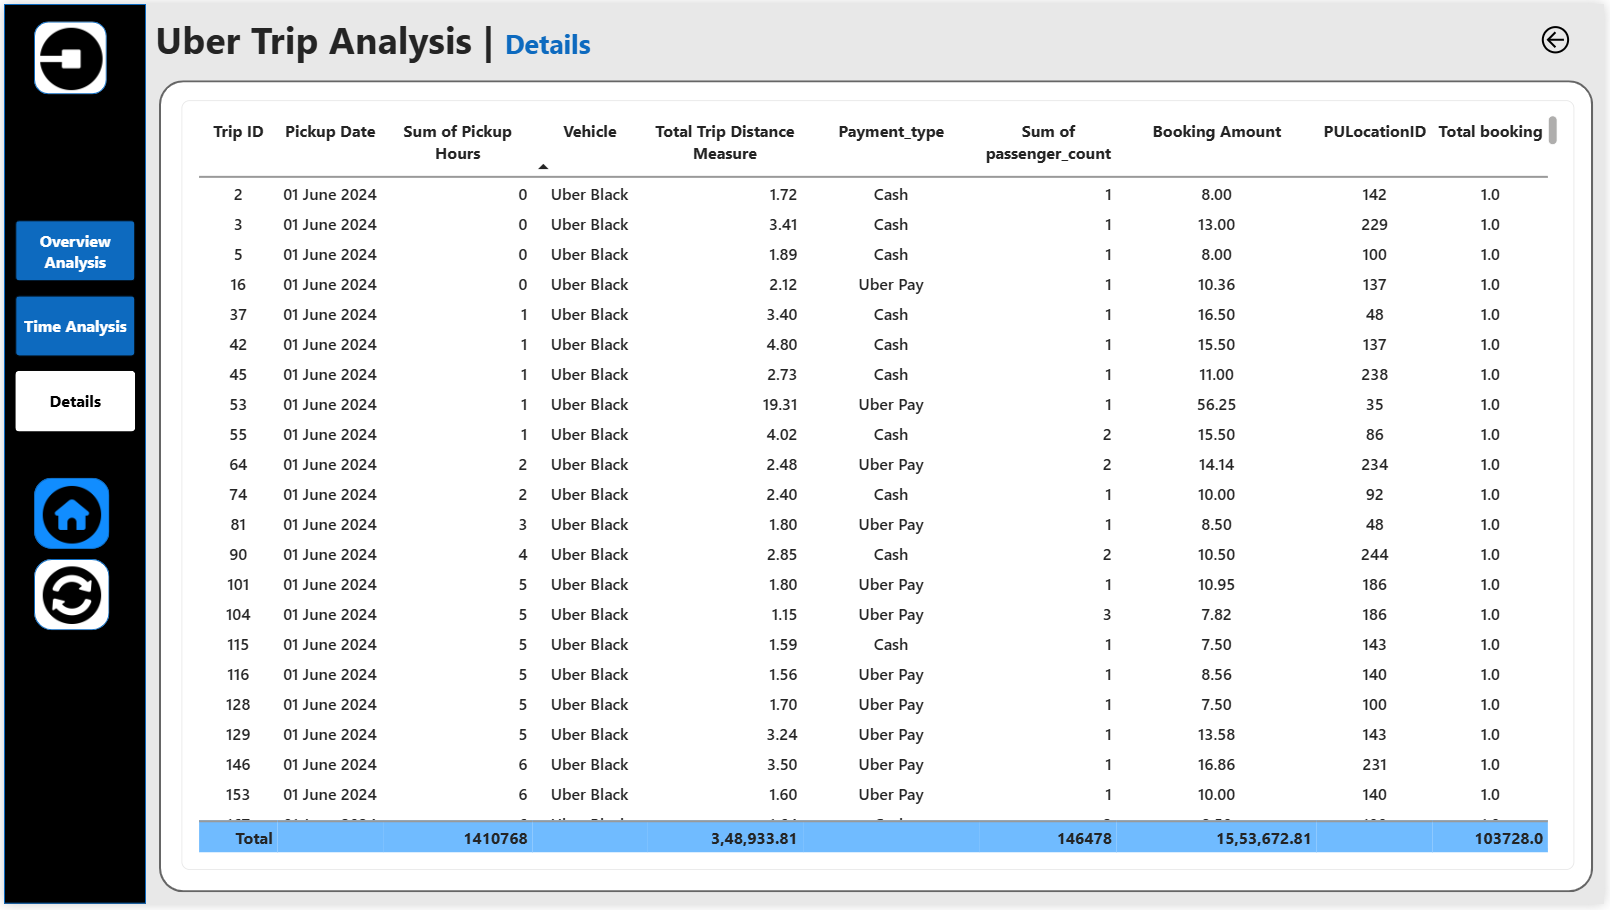

Layout of this report page (visuals, bound fields, positions):
{"tool":"powerbi","page":{"name":"Details","canvas":[1600,900],"ordinal":2},"visuals":[{"type":"shape","box":[0,0,142,899.7],"z":0},{"type":"shape","box":[30.5,17.4,72.7,72.7],"z":0,"group":"g1"},{"type":"textbox","box":[151.4,10,601.4,65.7],"z":1000},{"type":"image","box":[36.3,23.2,62,62.5],"z":1000,"group":"g1"},{"type":"shape","box":[155.1,76,1434.1,812],"z":2000},{"type":"tableEx","fields":{"Values":["Trip details.Trip ID","Trip details.Pickup Date","Sum(Trip details.Pickup Hours)","Trip details.Vehicle","Trip details.Total Trip Distance Measure","Trip details.Payment_type","Sum(Trip details.passenger_count)","Trip details.Total Booking Amount","Trip details.PULocationID","Trip details.Total booking"]},"box":[177.3,96.6,1393,769.3],"z":3000},{"type":"actionButton","box":[1521.5,9.3,60,50],"z":4000},{"type":"pageNavigator","box":[10.8,216.5,120.6,211.8],"z":5000},{"type":"group","id":"g1","title":"Group 1","box":[30.5,17.4,72.7,72.7],"z":6000},{"type":"shape","box":[30.5,473.8,75.6,71.2],"z":6001},{"type":"image","box":[39.2,478.2,58.1,64],"z":6002},{"type":"shape","box":[30.5,555.2,75.6,71.2],"z":6003},{"type":"image","box":[39.2,559.6,58.1,62.5],"z":6004}]}

Visuals, with their boxes on the page's 1600x900 design canvas (x1, y1, x2, y2). These are canvas units, not pixel positions in the 1610x910 screenshot, which may show the page scaled, cropped or inside an application window:
shape: detection(0, 0, 142, 900)
shape: detection(30, 17, 103, 90)
textbox: detection(151, 10, 753, 76)
image: detection(36, 23, 98, 86)
shape: detection(155, 76, 1589, 888)
tableEx - Trip details.Trip ID x Trip details.Pickup Date: detection(177, 97, 1570, 866)
actionButton: detection(1522, 9, 1582, 59)
pageNavigator: detection(11, 216, 131, 428)
"Group 1" group: detection(30, 17, 103, 90)
shape: detection(30, 474, 106, 545)
image: detection(39, 478, 97, 542)
shape: detection(30, 555, 106, 626)
image: detection(39, 560, 97, 622)
